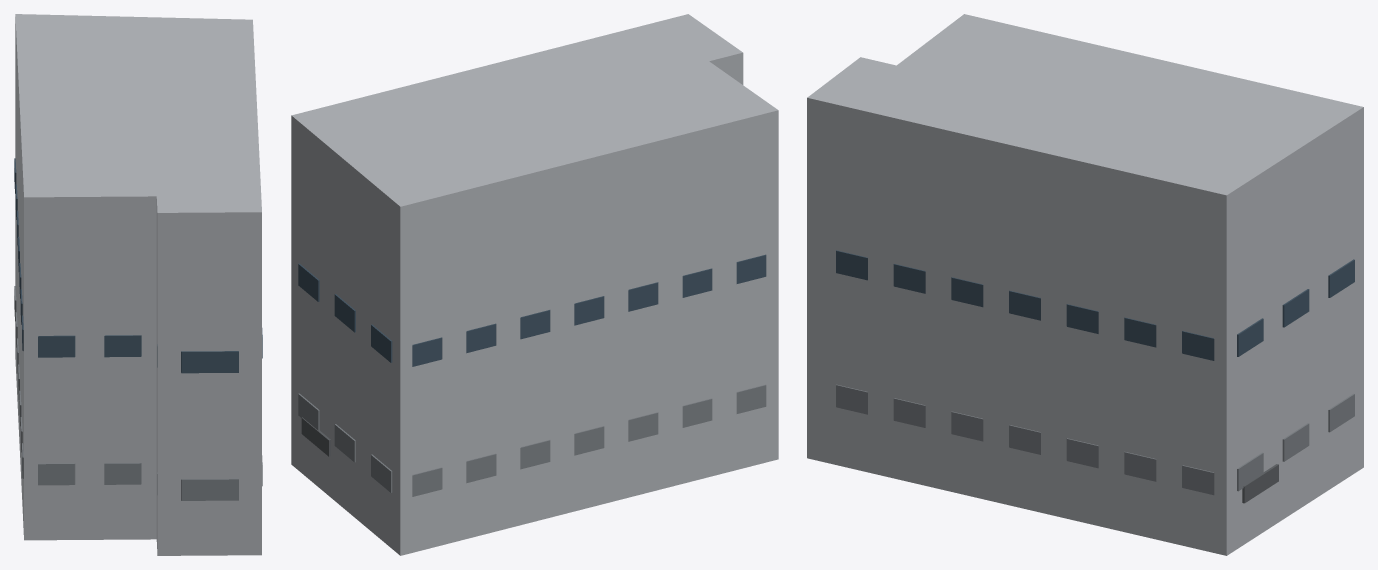
Rendered from doitt-39969__lod_0.glb.
3 views of the same model, side by side, from view 1: azimuth 30°, elevation 25°; view 2: azimuth 150°, elevation 25°; view 3: azimuth 270°, elevation 25° (orthographic). The views are drawn at different scales.
Visible parts, largest first — view 1: doitt:39969__lod_0__estimated_mass, doitt:39969__lod_0__facade_02_01_00, doitt:39969__lod_0__facade_02_00_00, doitt:39969__lod_0__facade_04_00_01, doitt:39969__lod_0__facade_04_01_01, doitt:39969__lod_0__facade_04_01_00, doitt:39969__lod_0__facade_04_00_00; view 2: doitt:39969__lod_0__estimated_mass, doitt:39969__lod_0__facade_05_00_05, doitt:39969__lod_0__facade_05_01_05, doitt:39969__lod_0__facade_05_00_00, doitt:39969__lod_0__facade_05_00_01, doitt:39969__lod_0__facade_05_00_04, doitt:39969__lod_0__facade_05_00_06, doitt:39969__lod_0__facade_05_01_01, doitt:39969__lod_0__facade_05_01_04, doitt:39969__lod_0__facade_05_01_06, doitt:39969__lod_0__facade_05_00_03, doitt:39969__lod_0__facade_05_01_00 (+3 smaller); view 3: doitt:39969__lod_0__estimated_mass, doitt:39969__lod_0__facade_00_00_02, doitt:39969__lod_0__facade_00_00_01, doitt:39969__lod_0__facade_00_00_04, doitt:39969__lod_0__facade_00_01_01, doitt:39969__lod_0__facade_00_00_05, doitt:39969__lod_0__facade_00_00_00, doitt:39969__lod_0__facade_00_01_04, doitt:39969__lod_0__facade_00_01_05, doitt:39969__lod_0__facade_00_01_00, doitt:39969__lod_0__facade_00_01_02, doitt:39969__lod_0__facade_00_01_06 (+6 smaller).
Part boxes in pixels (x1,y1,x2,y2): doitt:39969__lod_0__estimated_mass: (15, 14, 261, 555); doitt:39969__lod_0__facade_02_01_00: (181, 351, 238, 373); doitt:39969__lod_0__facade_02_00_00: (181, 478, 238, 500); doitt:39969__lod_0__facade_04_00_01: (38, 463, 75, 485); doitt:39969__lod_0__facade_04_01_01: (38, 335, 75, 357); doitt:39969__lod_0__facade_04_01_00: (104, 335, 141, 357); doitt:39969__lod_0__facade_04_00_00: (104, 463, 141, 484); doitt:39969__lod_0__estimated_mass: (291, 14, 778, 555); doitt:39969__lod_0__facade_05_00_05: (466, 453, 496, 483); doitt:39969__lod_0__facade_05_01_05: (466, 323, 496, 353); doitt:39969__lod_0__facade_05_00_00: (736, 384, 766, 413); doitt:39969__lod_0__facade_05_00_01: (682, 398, 712, 427); doitt:39969__lod_0__facade_05_00_04: (520, 440, 550, 469); doitt:39969__lod_0__facade_05_00_06: (412, 467, 442, 496); doitt:39969__lod_0__facade_05_01_01: (682, 268, 712, 297); doitt:39969__lod_0__facade_05_01_04: (520, 310, 550, 339); doitt:39969__lod_0__facade_05_01_06: (412, 337, 442, 366); doitt:39969__lod_0__facade_05_00_03: (574, 426, 604, 455); doitt:39969__lod_0__facade_05_01_00: (736, 254, 766, 283); doitt:39969__lod_0__estimated_mass: (807, 14, 1363, 555); doitt:39969__lod_0__facade_00_00_02: (1066, 438, 1098, 468); doitt:39969__lod_0__facade_00_00_01: (1124, 451, 1156, 481); doitt:39969__lod_0__facade_00_00_04: (951, 411, 983, 441); doitt:39969__lod_0__facade_00_01_01: (1124, 317, 1156, 347); doitt:39969__lod_0__facade_00_00_05: (893, 398, 925, 427); doitt:39969__lod_0__facade_00_00_00: (1182, 465, 1214, 495); doitt:39969__lod_0__facade_00_01_04: (951, 277, 983, 307); doitt:39969__lod_0__facade_00_01_05: (893, 264, 925, 293); doitt:39969__lod_0__facade_00_01_00: (1182, 331, 1214, 360); doitt:39969__lod_0__facade_00_01_02: (1066, 304, 1098, 333); doitt:39969__lod_0__facade_00_01_06: (836, 250, 867, 280).
Size of the model in its own units: 25.36 by 23.5 by 32.88.
